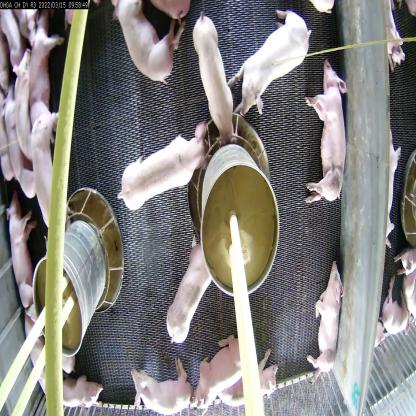Pig: (226, 3, 312, 122), (110, 119, 210, 220), (305, 43, 349, 220), (106, 0, 189, 88), (191, 8, 236, 142), (305, 253, 348, 384), (166, 229, 213, 348), (26, 107, 66, 245), (215, 346, 290, 416), (25, 13, 68, 132), (189, 330, 245, 414), (2, 97, 42, 208), (2, 204, 41, 305), (121, 363, 196, 414), (10, 50, 40, 152), (24, 309, 56, 393), (380, 272, 415, 344), (384, 122, 400, 260), (53, 378, 112, 415), (384, 3, 410, 68)
